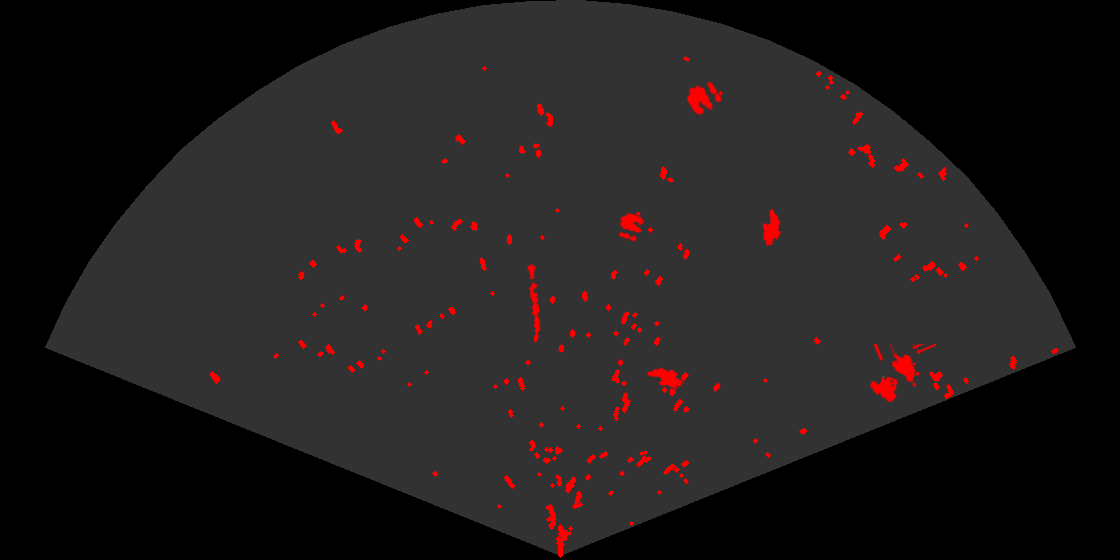AUV: (645, 366, 684, 390), (761, 207, 783, 248)
ball: (685, 80, 723, 117), (617, 211, 646, 243)
cage: (868, 344, 936, 404)
chain: (526, 262, 542, 344)
